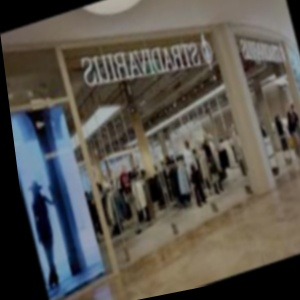stradivarius: (70, 11, 300, 119), (174, 0, 253, 61)
